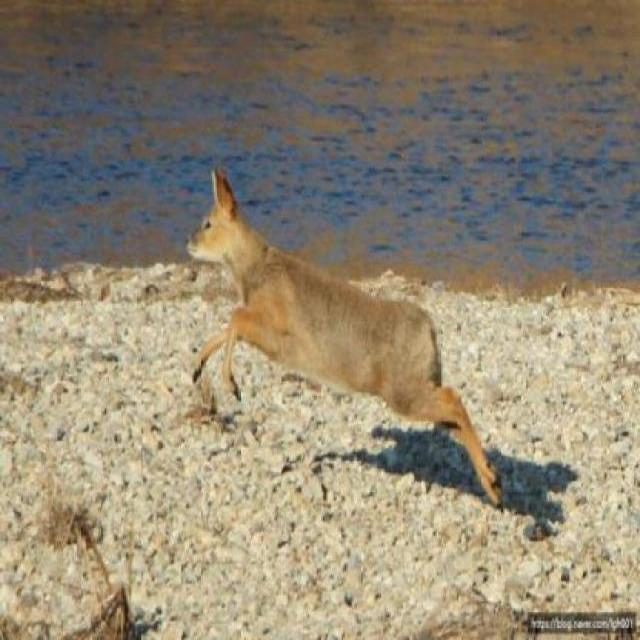deer: (176, 171, 522, 529)
